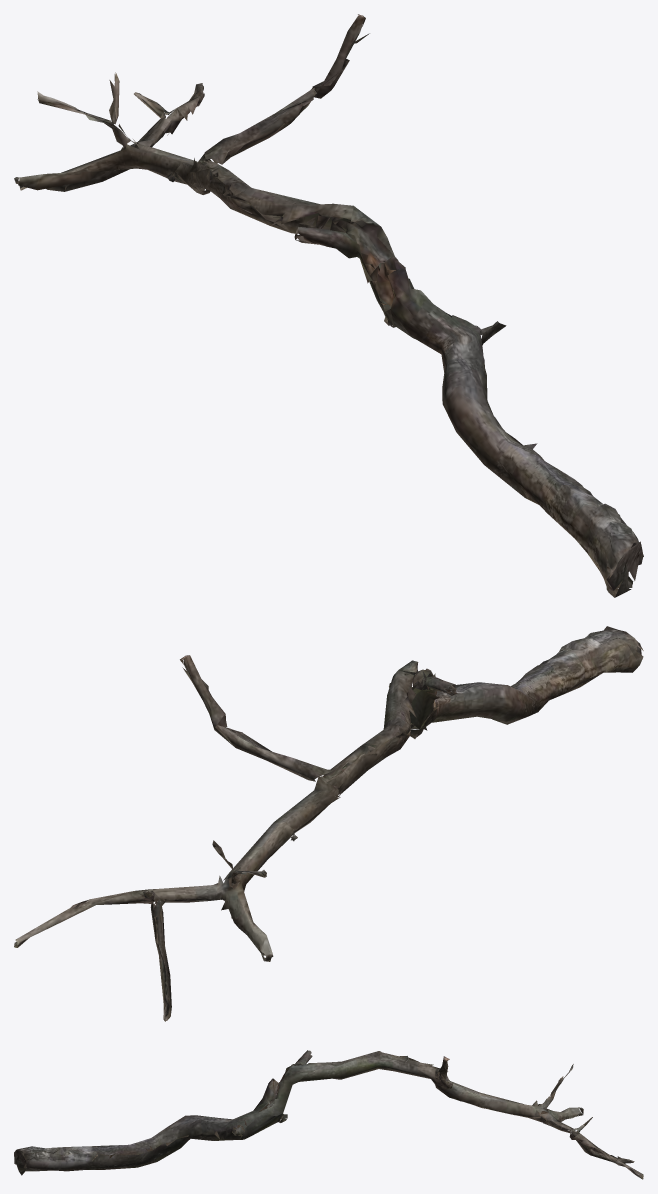
File: dry_branches_medium_01_v1.glb
3 renders of one model, top to bottom at view 1: azimuth 30°, elevation 25°; view 2: azimuth 150°, elevation 25°; view 3: azimuth 270°, elevation 25°, orthographic. The views are drawn at different scales.
Visible parts, largest first — view 1: lod0; view 2: lod0; view 3: lod0.
Part boxes in pixels (x1=…): lod0: x1=14, y1=14, x2=643, y2=597; lod0: x1=14, y1=626, x2=643, y2=1021; lod0: x1=14, y1=1050, x2=643, y2=1179.
Size of what is drawn, in the model's own units: 0.3211 by 0.3401 by 1.3.
1 material, 1 textured.
